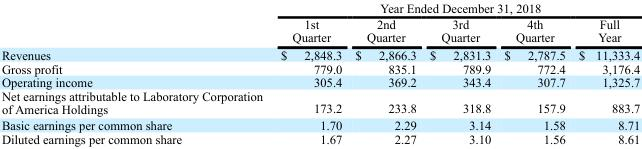table: (0, 0, 639, 145)
table column: (0, 0, 271, 145), (271, 0, 347, 145), (347, 0, 422, 145), (496, 0, 571, 145), (422, 0, 496, 145), (571, 0, 639, 145)
table column header: (0, 0, 639, 45)
table row: (0, 15, 639, 45), (0, 89, 639, 116), (0, 45, 639, 61), (0, 116, 639, 132), (0, 0, 639, 15), (0, 61, 639, 75), (0, 75, 639, 89), (0, 132, 639, 145)
table spanning cell: (271, 0, 639, 15)
